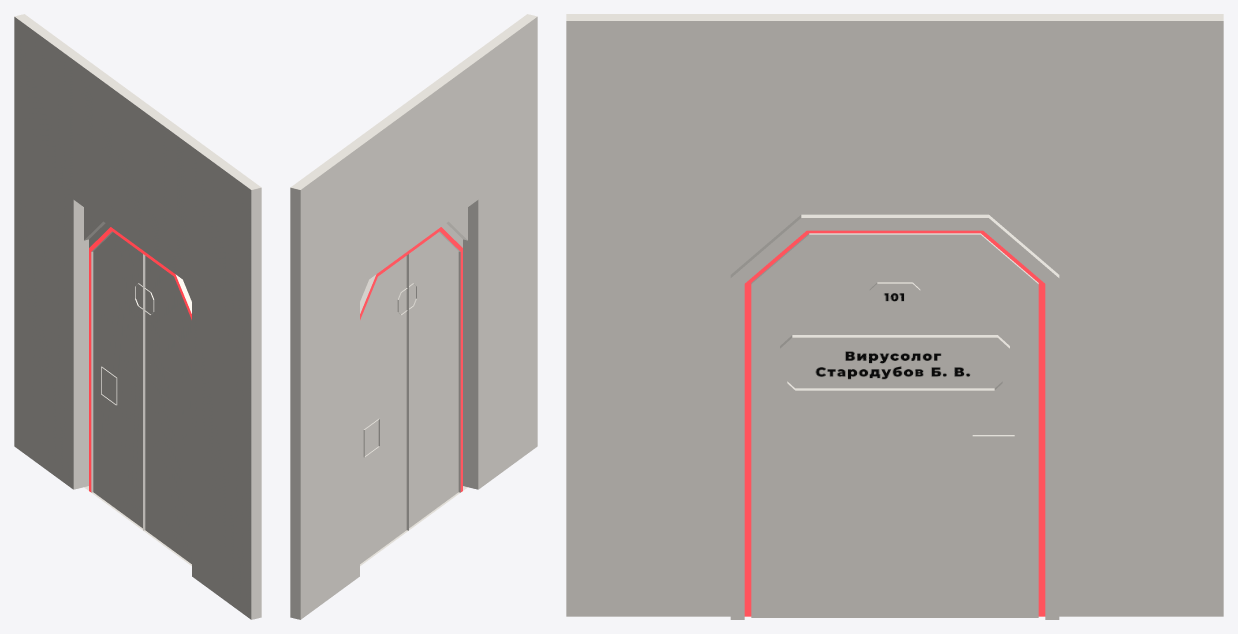
Rendered from ModularMedDoorWall02.fbx.
3 renders of one model, left to right at view 1: azimuth 30°, elevation 25°; view 2: azimuth 150°, elevation 25°; view 3: azimuth 270°, elevation 25°, orthographic. The views are drawn at different scales.
Visible parts, largest first — view 1: Wall.002, Plane; view 2: Wall.002, Plane; view 3: Wall.002, Plane, Plane.001, Plane.003, Plane.002.
Boxes of the visible parts, left/top/right/bottom form: Wall.002: left=14, top=14, right=261, bottom=619; Plane: left=84, top=207, right=191, bottom=565; Wall.002: left=290, top=14, right=537, bottom=619; Plane: left=360, top=207, right=467, bottom=565; Wall.002: left=566, top=14, right=1223, bottom=616; Plane: left=730, top=214, right=1059, bottom=619; Plane.001: left=780, top=335, right=1009, bottom=397; Plane.003: left=972, top=435, right=1014, bottom=474; Plane.002: left=869, top=282, right=920, bottom=314.
Bounding box in the file's own units: 0.16 × 4 × 4.
